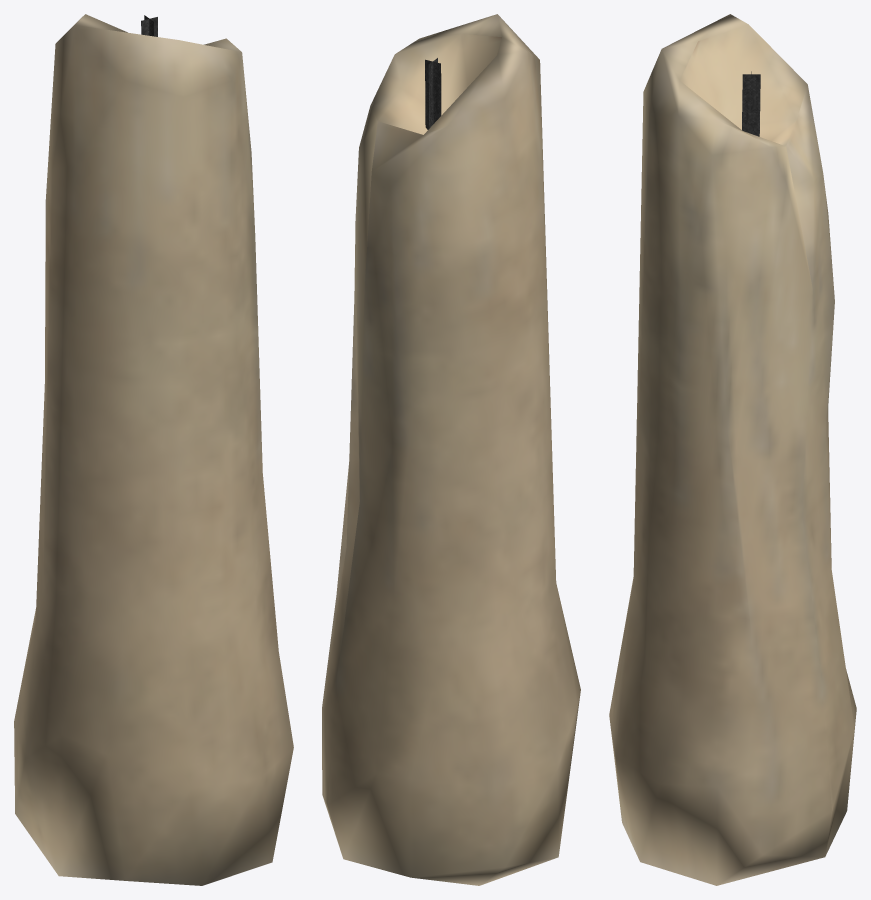
File: SM_Candle_03.gltf
3 views of the same model, side by side, from view 1: azimuth 30°, elevation 25°; view 2: azimuth 150°, elevation 25°; view 3: azimuth 270°, elevation 25° (orthographic). The views are drawn at different scales.
Visible parts, largest first — view 1: SM_Candle_03_LOD0; view 2: SM_Candle_03_LOD0; view 3: SM_Candle_03_LOD0.
Part boxes in pixels (x1,y1,x2,y2): SM_Candle_03_LOD0: (14, 14, 293, 885); SM_Candle_03_LOD0: (322, 14, 580, 885); SM_Candle_03_LOD0: (609, 14, 856, 885).
Size of what is drawn, in the model's own units: 0.12 by 0.3971 by 0.1139.
Materials: 1 (1 with a texture image).
